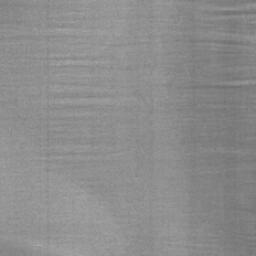Waist folding: (0, 52, 256, 132), (0, 11, 256, 48), (26, 144, 173, 190), (0, 210, 140, 251), (141, 0, 256, 24), (162, 232, 256, 250), (182, 136, 256, 156), (214, 204, 256, 214), (121, 251, 148, 256)
